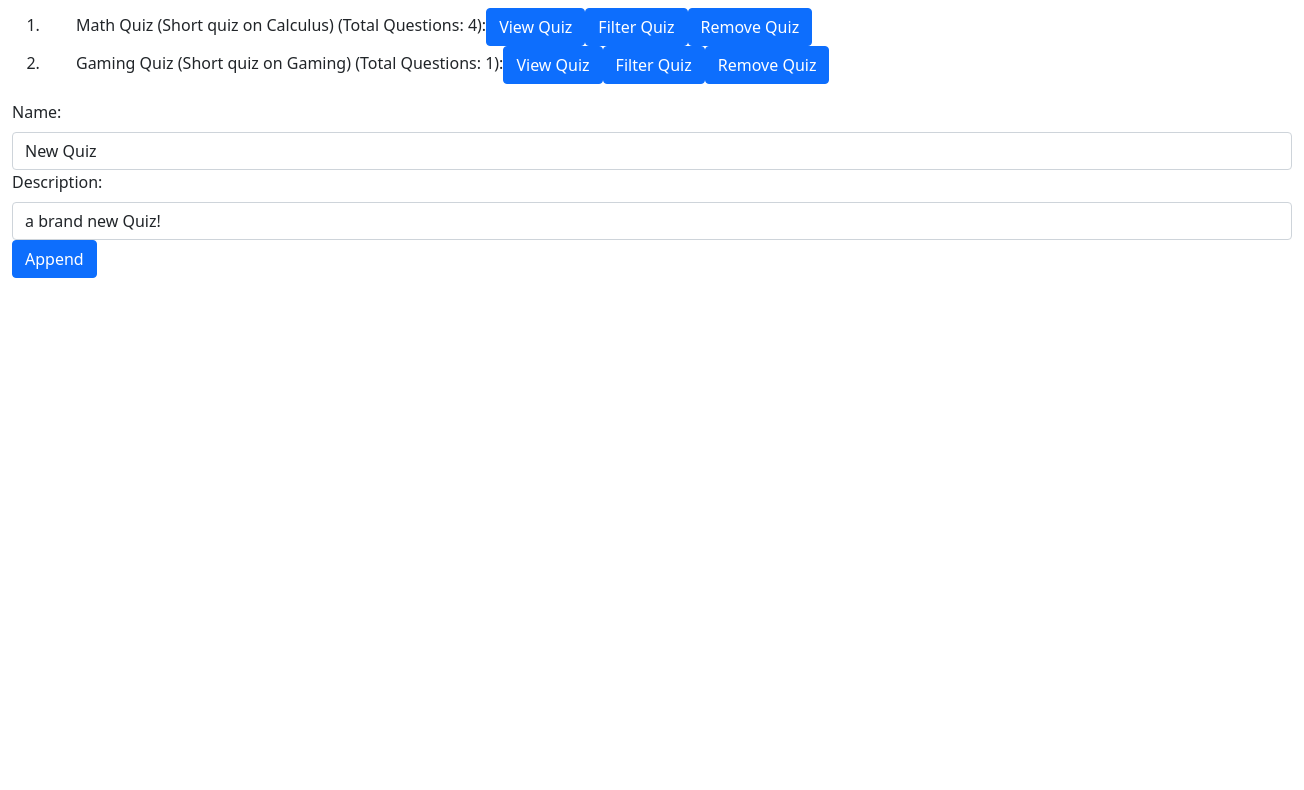
Questions Tests › Entering the right answer gives you points to your Total Sum.
Click the button with test id "view-quiz-button" in the row of "Short quiz on Calculus" at (536, 27), box [486,8,585,46]
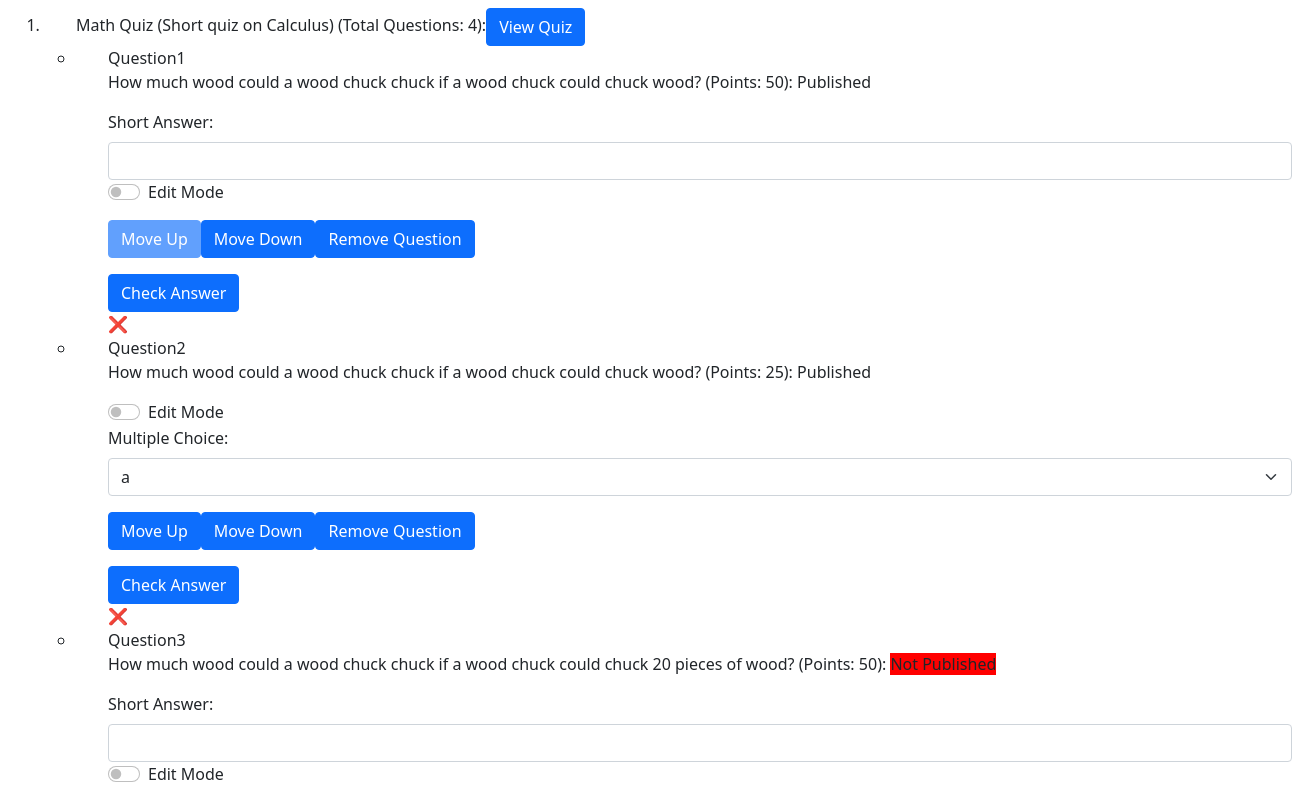
Type "None" into the field labelled "Short Answer:" at (700, 161), box [108,142,1292,180]
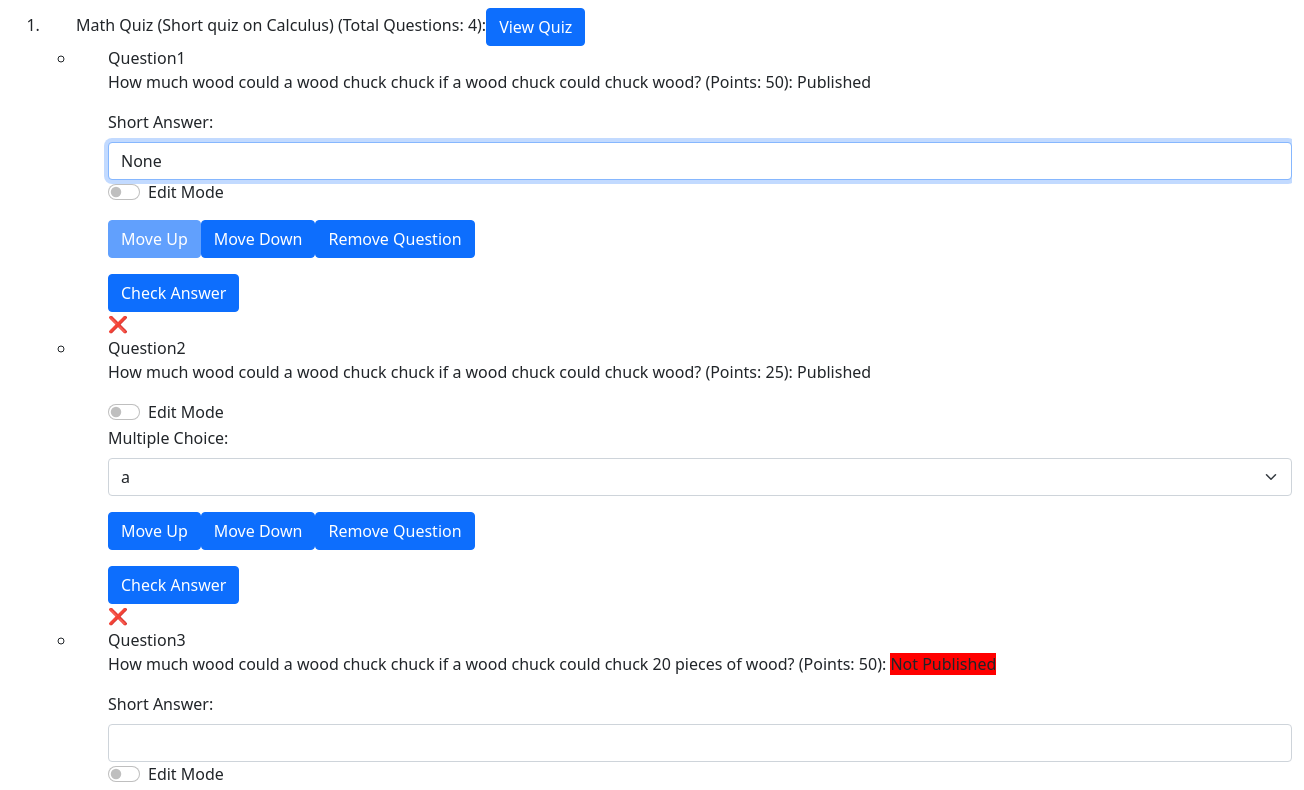
Click the button with test id "check-answer-button" below "Question1" at (174, 293), box [108,274,239,312]
(page scrolled)
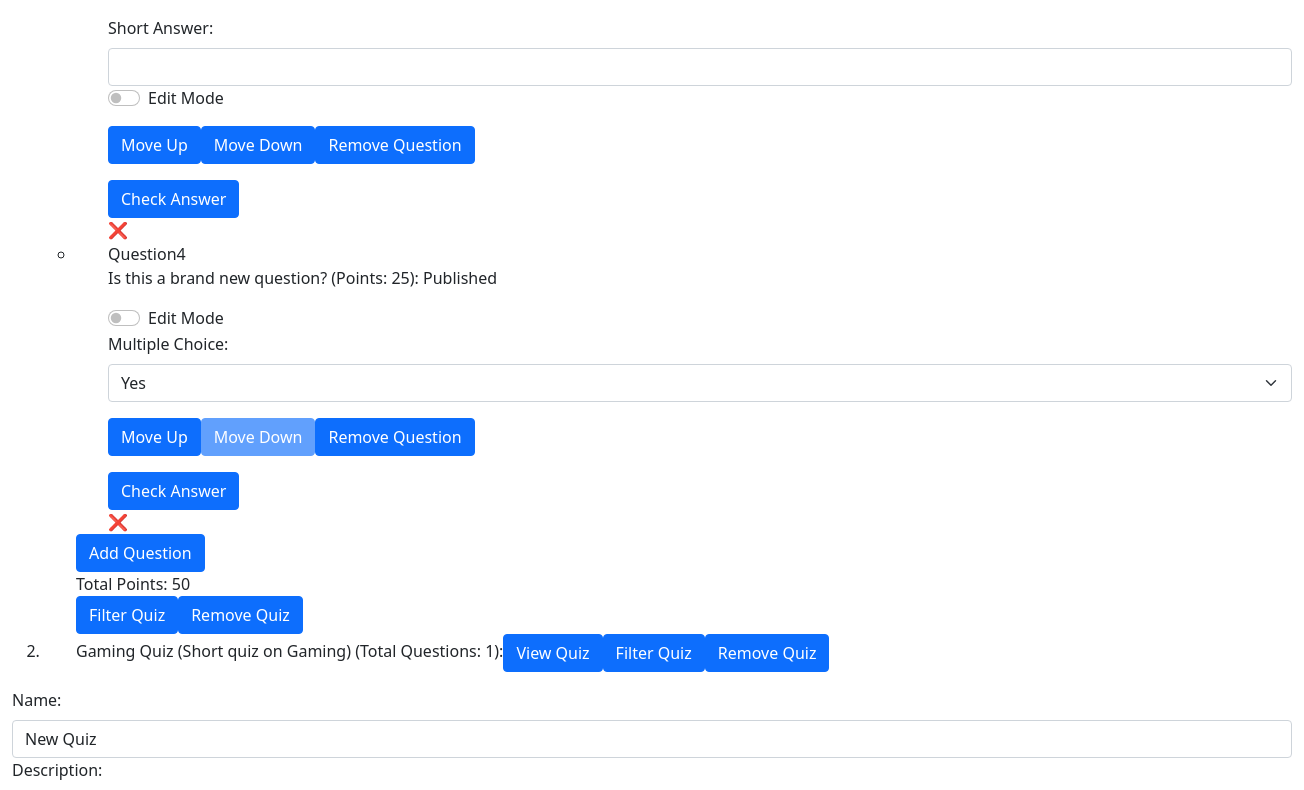
Result: the text "Total Points: 50" is shown at [76,573,190,595]
